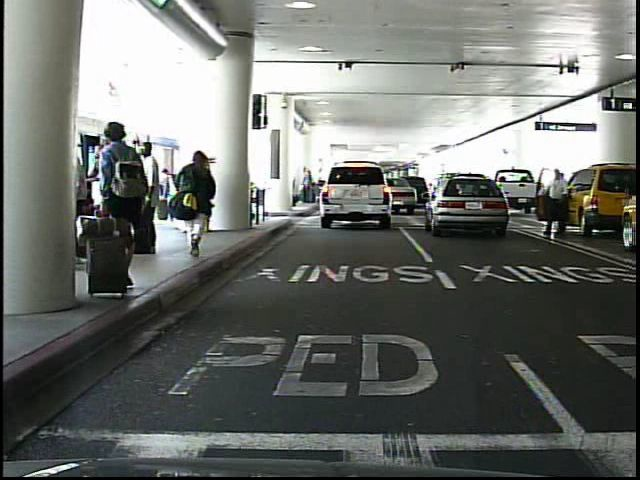person: (92, 116, 146, 298), (179, 145, 222, 265), (132, 138, 167, 256), (540, 166, 570, 239), (186, 155, 211, 233)
